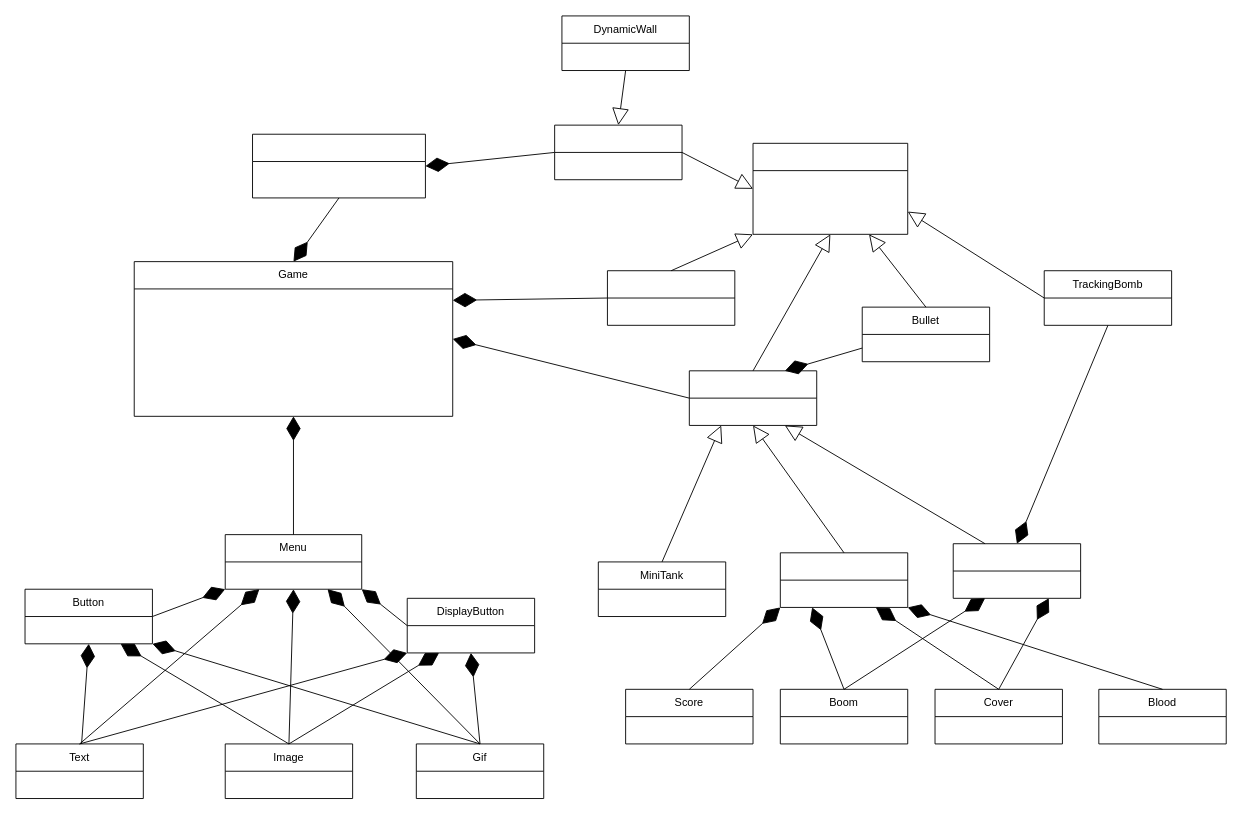
Some shapes in this 1242 by 814 pixel diagram are drawn without their labels. Here are the shapes that lost their labels. From the top down, the box of each, then its label:
(252, 133, 425, 198): Map
(554, 124, 682, 180): Wall
(752, 142, 908, 234): pygame.sprite.sprite
(607, 270, 735, 325): Food
(688, 370, 817, 425): Tank
(779, 552, 908, 607): Enemy
(952, 543, 1081, 598): Player
